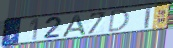1: (28, 17, 41, 42)
2: (43, 15, 63, 40)
7: (89, 10, 109, 35)
A: (60, 14, 88, 39)
D: (107, 8, 131, 34)
I: (144, 6, 152, 30)
